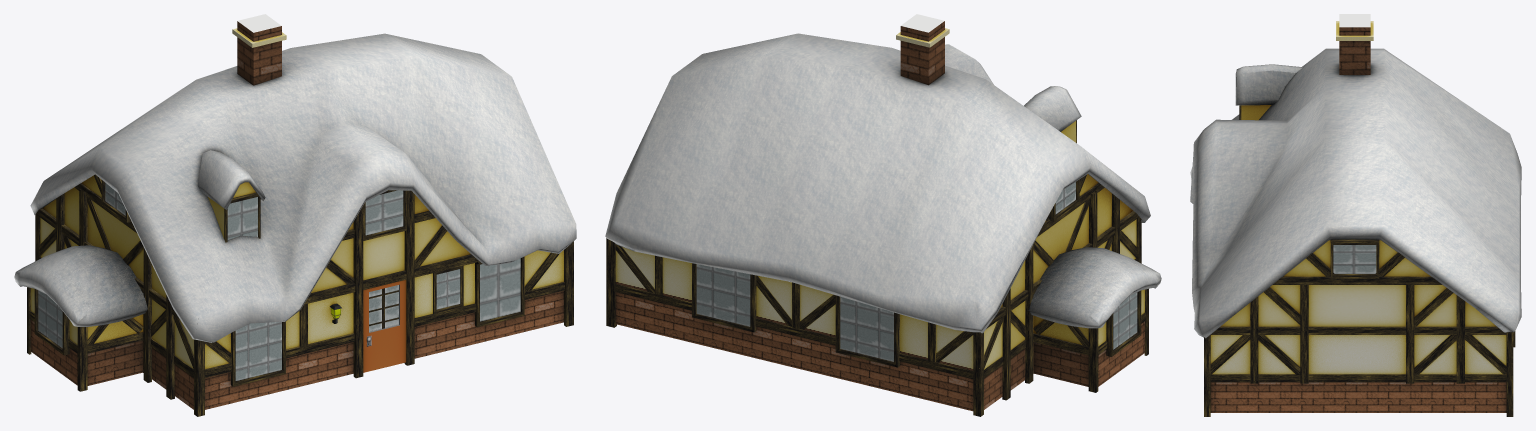
Rendered from House.dae.
The picture shows the model from 3 angles, left to right: view 1: azimuth 30°, elevation 25°; view 2: azimuth 150°, elevation 25°; view 3: azimuth 270°, elevation 25°; orthographic projection. The views are drawn at different scales.
Parts seen in each view (by area): view 1: polySurface19; view 2: polySurface19; view 3: polySurface19.
Part boxes in pixels (left/top/right/bottom): polySurface19: left=14, top=14, right=576, bottom=416; polySurface19: left=605, top=14, right=1161, bottom=416; polySurface19: left=1190, top=14, right=1521, bottom=416.
Size of the model in its own units: 42.88 by 27.02 by 28.3.
